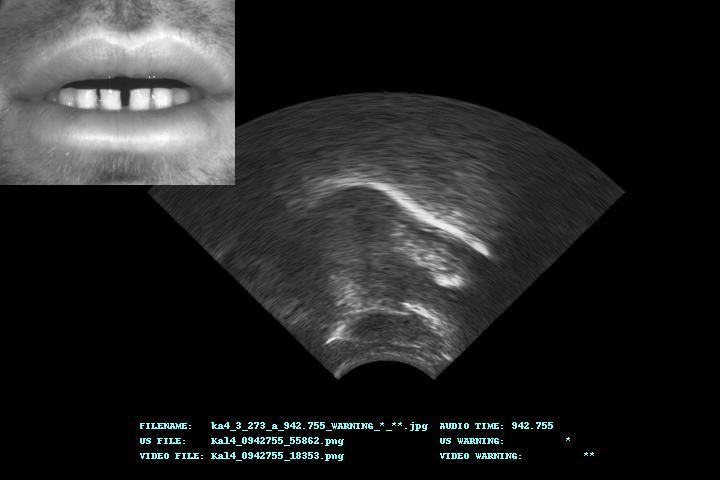-a-: (151, 94, 622, 379)
